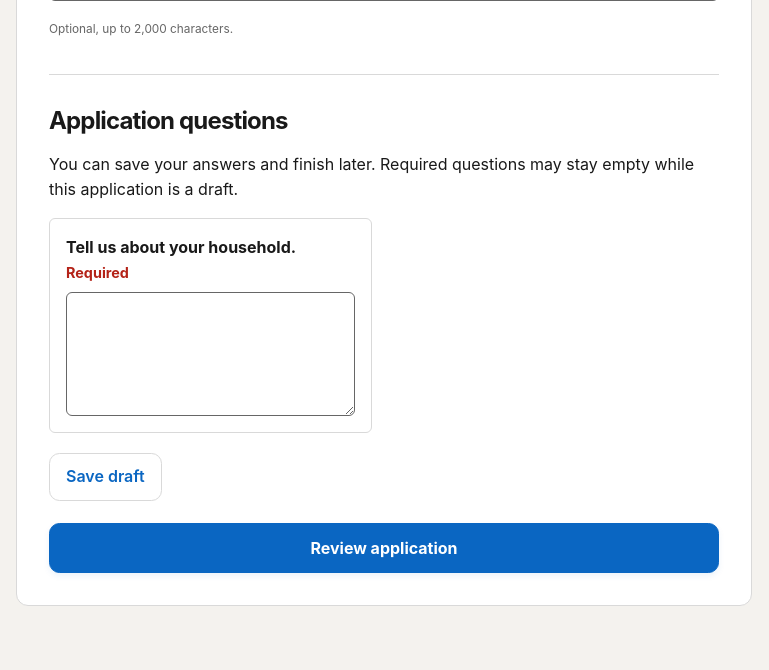
Test case: draft application question controls › allows required questions to remain empty when saving a DRAFT
(page scrolled)
Step 1. Click the button "Save draft" → (105, 477), box [49,453,162,501]
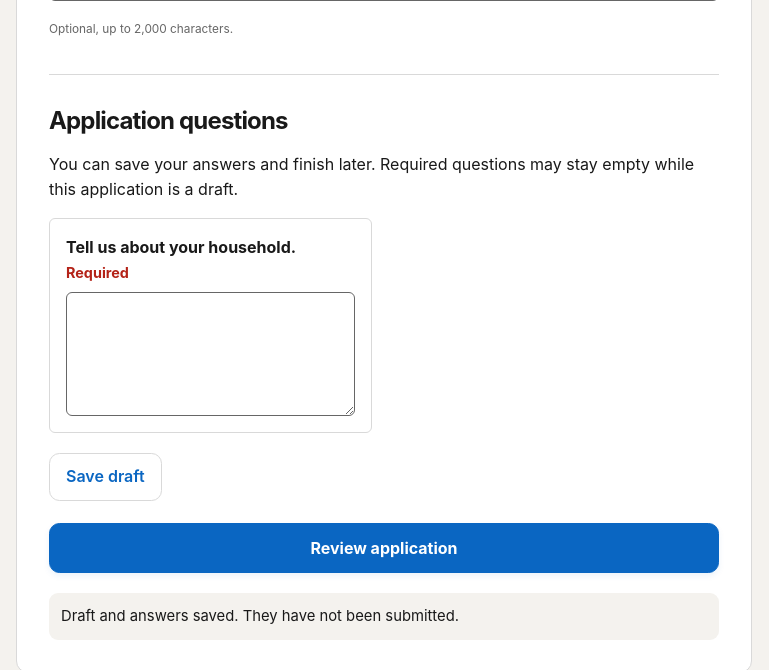
Result: the text "Draft and answers saved. They have not been submitted." is shown at [49,593,719,640]
